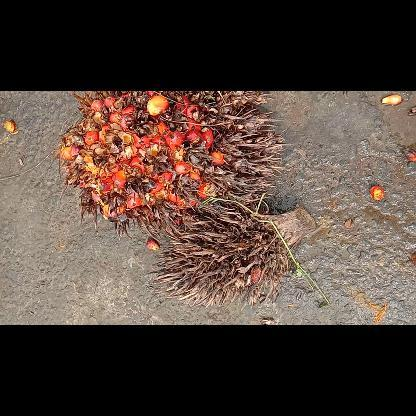Janjang kosong: (146, 206, 316, 308)
Terlalu masak: (54, 91, 290, 237)
